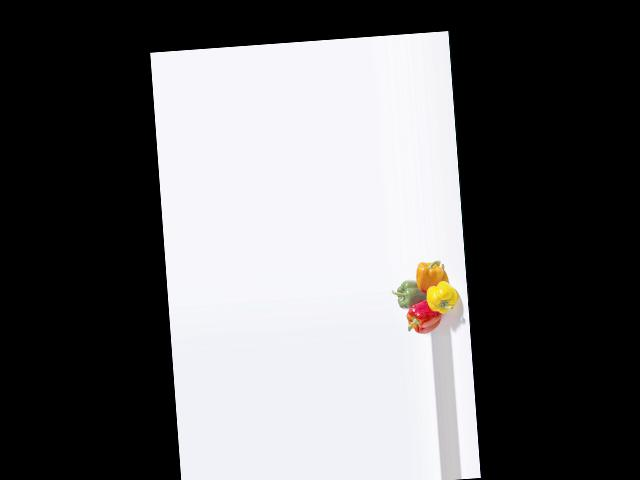bell_pepper: (402, 299, 443, 336)
